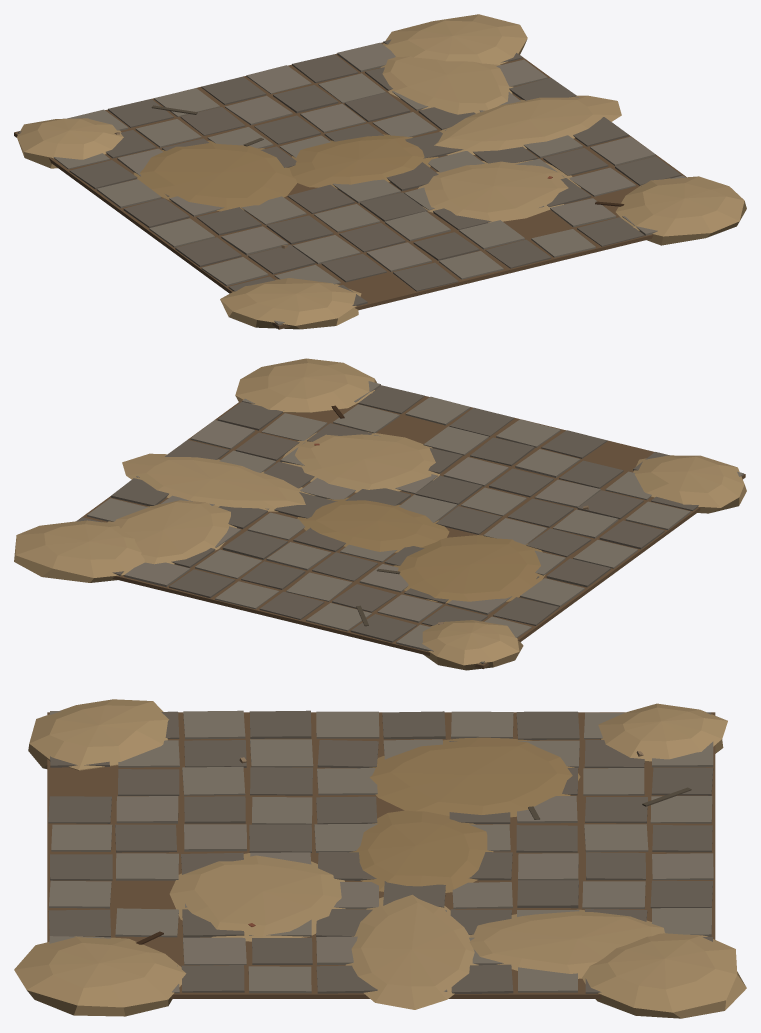
File: TownFloorStone.glb
The picture shows the model from 3 angles, top to bottom: view 1: azimuth 30°, elevation 25°; view 2: azimuth 150°, elevation 25°; view 3: azimuth 270°, elevation 25°; orthographic projection. The views are drawn at different scales.
Visible parts, largest first — view 1: TownFloorStone.001; view 2: TownFloorStone.001; view 3: TownFloorStone.001.
Boxes of the visible parts, x1,y1,x2,y2 form: TownFloorStone.001: (14, 14, 746, 329); TownFloorStone.001: (14, 358, 746, 670); TownFloorStone.001: (14, 699, 746, 1018).
Size of the model in its own units: 15.59 by 0.7478 by 15.36.
